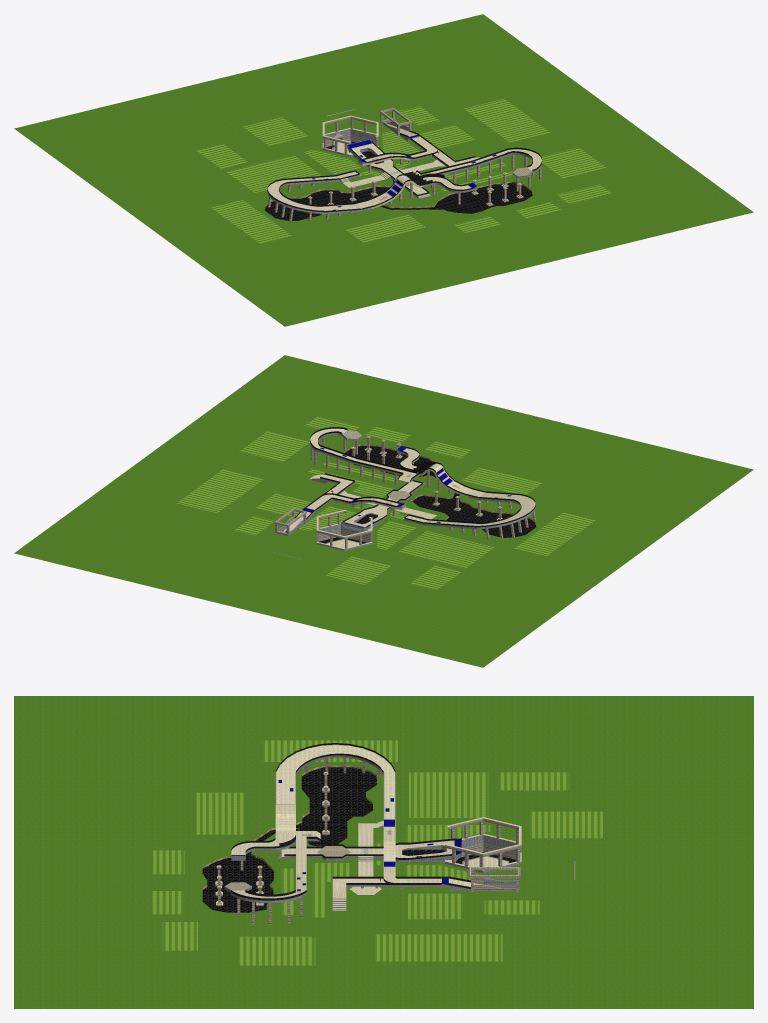
3 views of the same model, one above another, from view 1: azimuth 30°, elevation 25°; view 2: azimuth 150°, elevation 25°; view 3: azimuth 270°, elevation 25° (orthographic). The views are drawn at different scales.
Parts seen in each view (by area): view 1: Troy_Circuit_SKP__Material___21, Troy_Circuit_SKP__auto2, Troy_Circuit_SKP__auto11, Troy_Circuit_SKP__Material___2, Troy_Circuit_SKP__auto12, Troy_Circuit_SKP__auto21, Troy_Circuit_SKP__Material___11; view 2: Troy_Circuit_SKP__Material___21, Troy_Circuit_SKP__auto2, Troy_Circuit_SKP__auto11, Troy_Circuit_SKP__Material___2, Troy_Circuit_SKP__auto12, Troy_Circuit_SKP__auto21, Troy_Circuit_SKP__Material___11; view 3: Troy_Circuit_SKP__Material___21, Troy_Circuit_SKP__auto2, Troy_Circuit_SKP__auto11, Troy_Circuit_SKP__Material___2, Troy_Circuit_SKP__Material___11, Troy_Circuit_SKP__auto12, Troy_Circuit_SKP__auto21.
Boxes of the visible parts, bbox=[...] form: Troy_Circuit_SKP__Material___21: bbox=[14, 14, 753, 326]; Troy_Circuit_SKP__auto2: bbox=[196, 98, 611, 243]; Troy_Circuit_SKP__auto11: bbox=[268, 115, 541, 210]; Troy_Circuit_SKP__Material___2: bbox=[265, 141, 532, 220]; Troy_Circuit_SKP__auto12: bbox=[267, 108, 541, 221]; Troy_Circuit_SKP__auto21: bbox=[267, 130, 541, 212]; Troy_Circuit_SKP__Material___11: bbox=[267, 109, 542, 213]; Troy_Circuit_SKP__Material___21: bbox=[14, 355, 753, 667]; Troy_Circuit_SKP__auto2: bbox=[177, 416, 595, 590]; Troy_Circuit_SKP__auto11: bbox=[283, 428, 535, 549]; Troy_Circuit_SKP__Material___2: bbox=[319, 446, 535, 543]; Troy_Circuit_SKP__auto12: bbox=[274, 436, 535, 558]; Troy_Circuit_SKP__auto21: bbox=[294, 427, 535, 527]; Troy_Circuit_SKP__Material___11: bbox=[273, 430, 536, 559]; Troy_Circuit_SKP__Material___21: bbox=[14, 696, 753, 1008]; Troy_Circuit_SKP__auto2: bbox=[152, 740, 602, 965]; Troy_Circuit_SKP__auto11: bbox=[215, 745, 521, 910]; Troy_Circuit_SKP__Material___2: bbox=[202, 767, 516, 912]; Troy_Circuit_SKP__Material___11: bbox=[224, 744, 575, 911]; Troy_Circuit_SKP__auto12: bbox=[215, 757, 521, 925]; Troy_Circuit_SKP__auto21: bbox=[231, 743, 470, 900].
Size of the model in its own units: 199007 by 13816 by 199007.
Materials: 15 (13 with a texture image).
